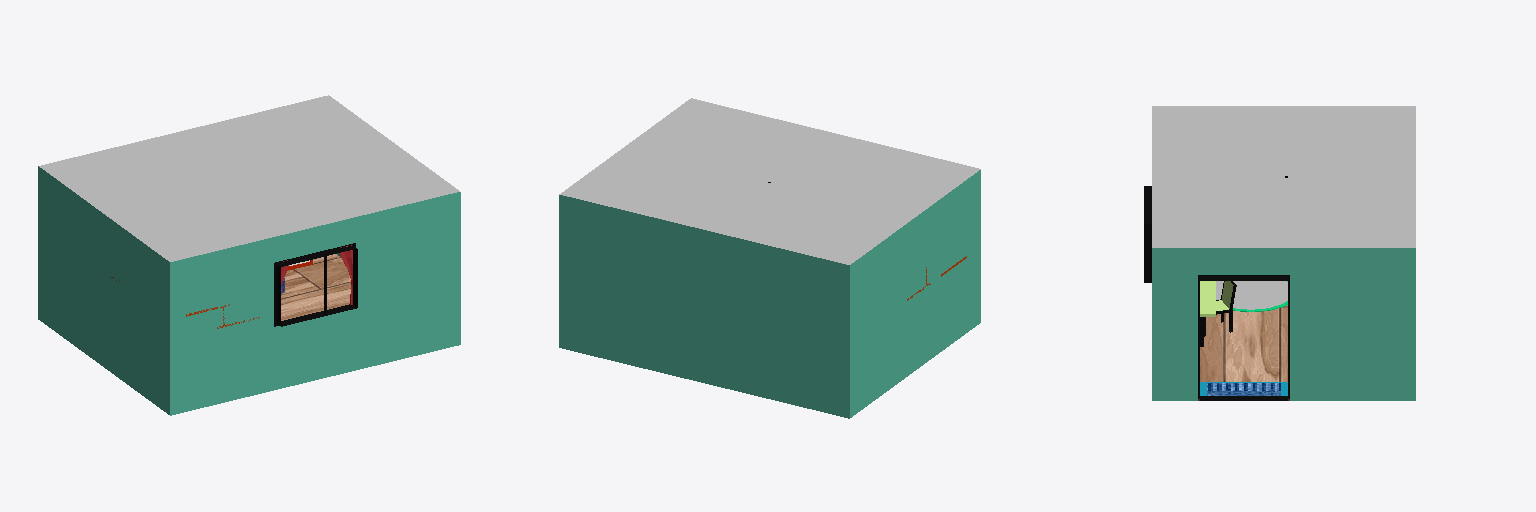
3 renders of one model, left to right at view 1: azimuth 30°, elevation 25°; view 2: azimuth 150°, elevation 25°; view 3: azimuth 270°, elevation 25°, orthographic.
Visible parts, largest first — view 1: Cube_Cube.001, Cube.010_Cube.013; view 2: Cube_Cube.001; view 3: Cube_Cube.001, Cylinder, Cube.011_Cube.015, Cube.009_Cube.012, Cube.010_Cube.013, Cube.007_Cube.010, Cube.008_Cube.011.
Part boxes in pixels (bbox=[...]): Cube_Cube.001: bbox=[38, 95, 460, 415]; Cube.010_Cube.013: bbox=[274, 243, 357, 326]; Cube_Cube.001: bbox=[559, 98, 980, 418]; Cube_Cube.001: bbox=[1152, 106, 1415, 400]; Cylinder: bbox=[1216, 281, 1287, 311]; Cube.011_Cube.015: bbox=[1198, 275, 1289, 400]; Cube.009_Cube.012: bbox=[1200, 382, 1287, 395]; Cube.010_Cube.013: bbox=[1144, 186, 1151, 282]; Cube.007_Cube.010: bbox=[1200, 281, 1215, 346]; Cube.008_Cube.011: bbox=[1204, 281, 1236, 336].
Bounding box in the file's own units: 1.97 × 0.9642 × 1.54.
Materials: 32 (3 with a texture image).